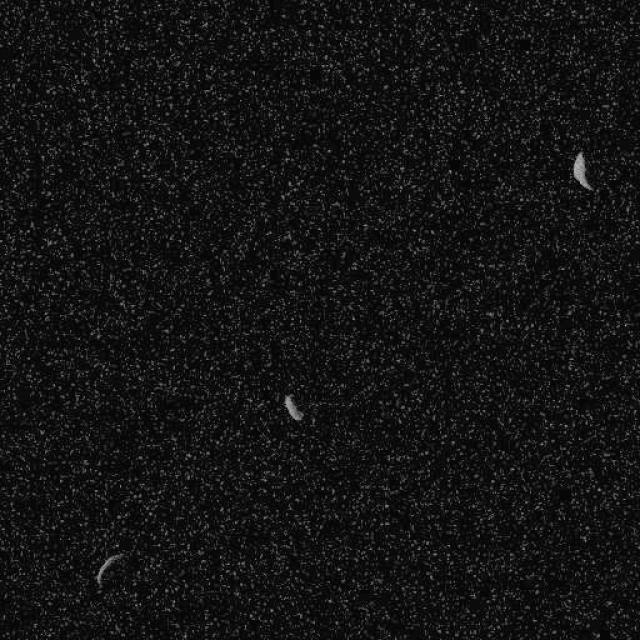D2: (95, 552, 126, 588), (571, 150, 594, 191), (281, 391, 304, 421)
